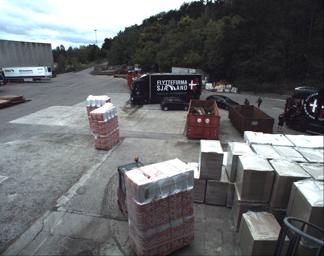rockwool_batts: (125, 155, 194, 255), (90, 103, 119, 147), (85, 94, 110, 110)
